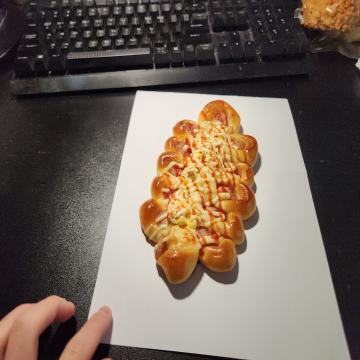pizza_bread: (140, 100, 258, 282)
